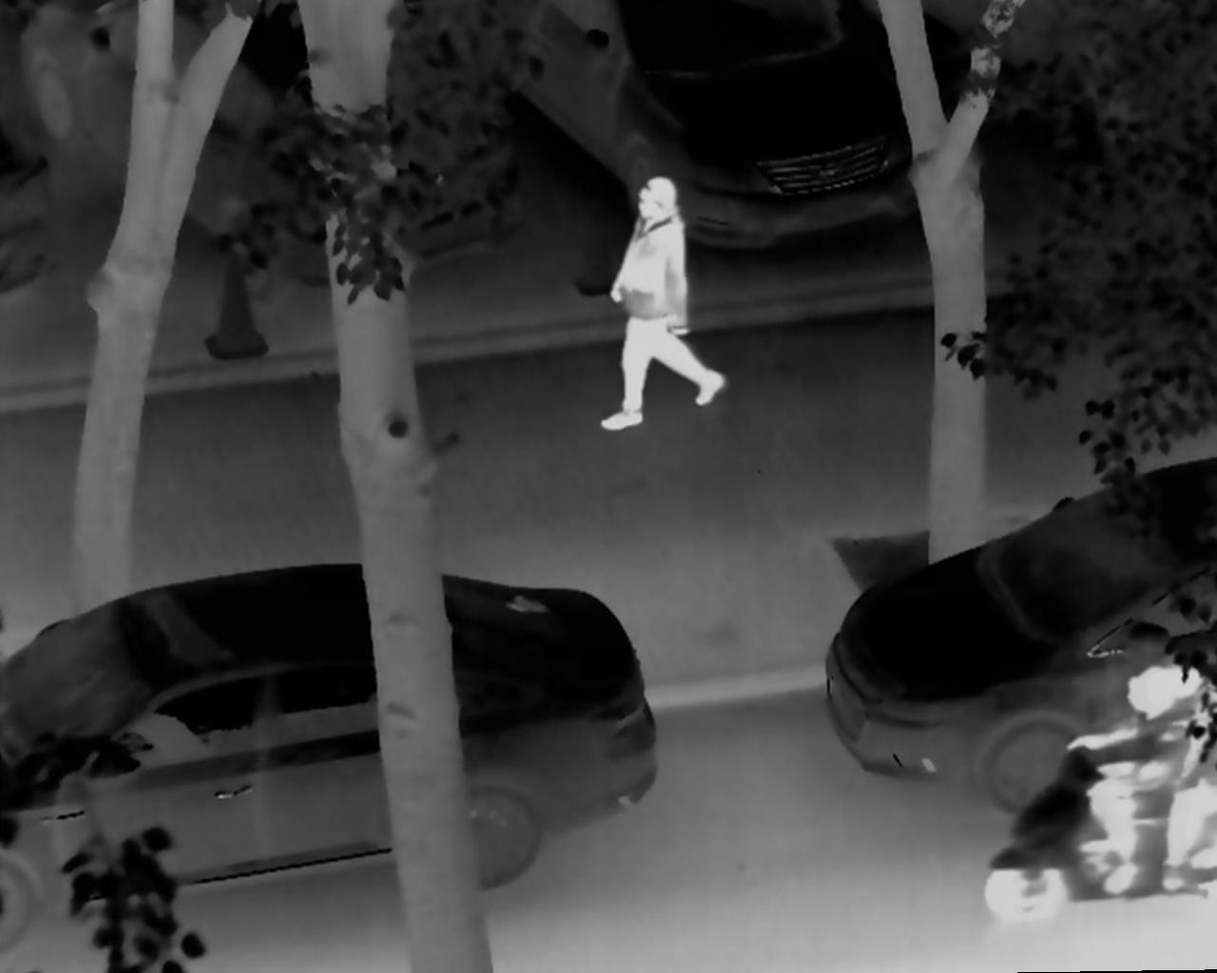person: (596, 174, 725, 448), (1071, 661, 1186, 904), (1140, 644, 1217, 896)
